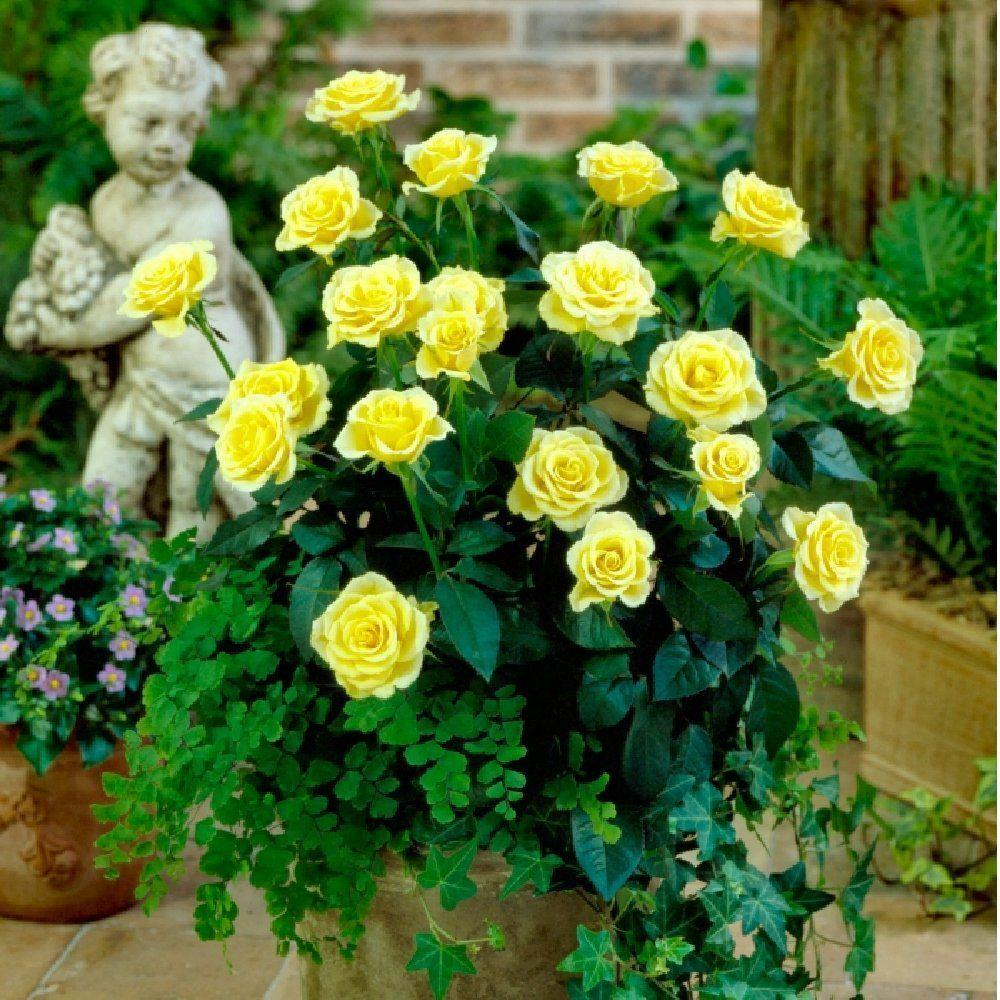Rose: (303, 548, 440, 711), (537, 240, 661, 359), (767, 488, 878, 618), (505, 410, 634, 520), (299, 54, 423, 160), (203, 338, 335, 437), (119, 226, 227, 339), (833, 296, 926, 423), (287, 152, 386, 269), (569, 498, 662, 621), (655, 330, 762, 429), (341, 388, 447, 477), (723, 162, 813, 266), (577, 130, 677, 221), (683, 422, 771, 525), (417, 266, 501, 373), (201, 404, 299, 495), (401, 118, 504, 203), (317, 258, 418, 343)
